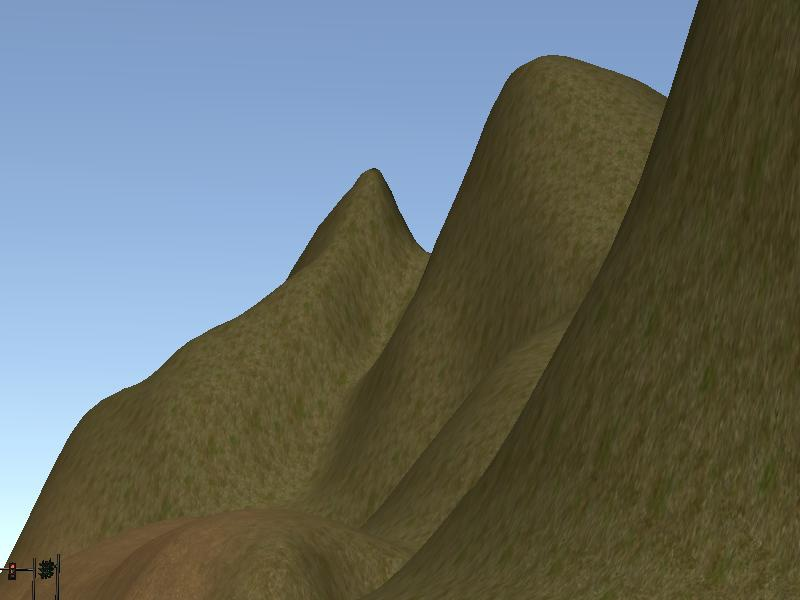Red: (8, 562, 17, 582)
